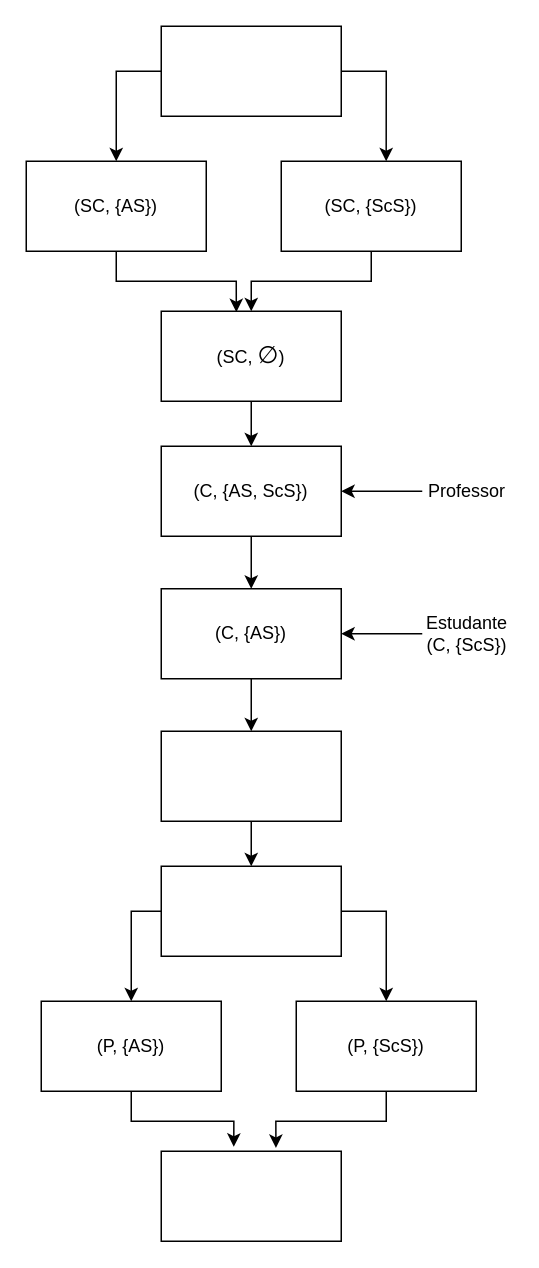
This 539x1268 diagram has some shape labels left out. Here are the shapes that lost their labels. From the top down, the centre of each, then its label:
the point at 250,70: (SC, {AS, ScS})
the point at 250,775: (C, ∅ )
the point at 250,910: (P, {AS, ScS})
the point at 250,1195: (P, ∅ )
